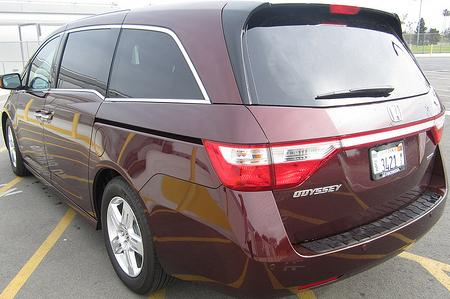back_view: (197, 126, 444, 248)
backlight: (197, 133, 339, 195)
side_glass: (22, 25, 123, 94)
